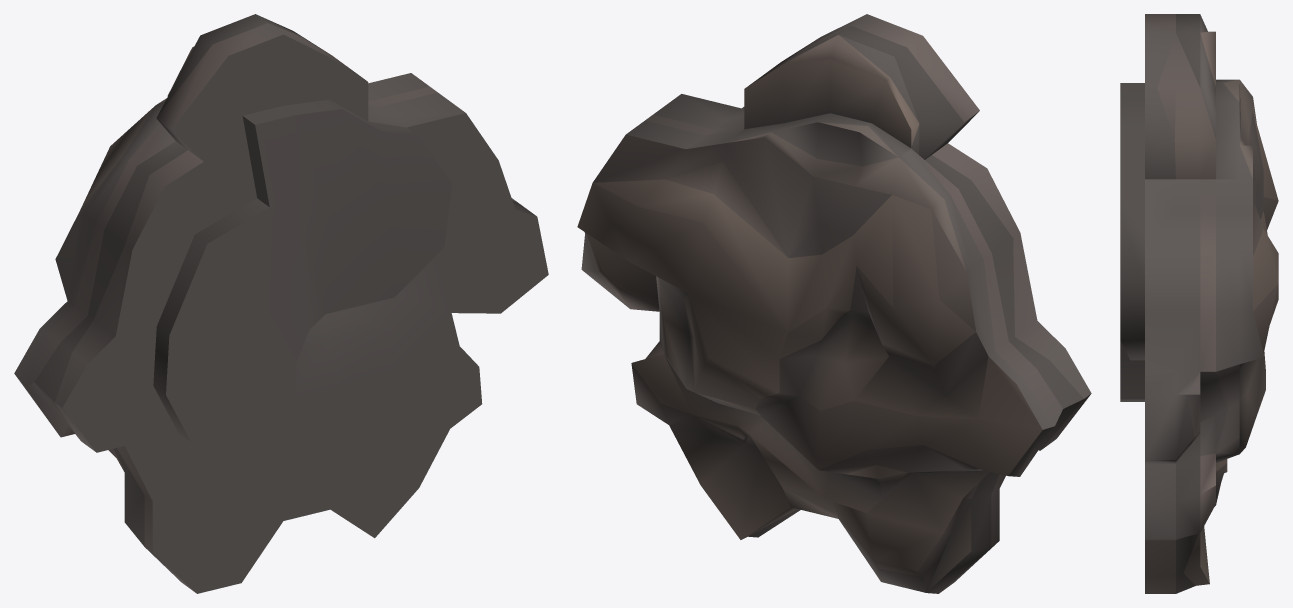
File: RockFlatLayered.006.glb
3 renders of one model, left to right at view 1: azimuth 30°, elevation 25°; view 2: azimuth 150°, elevation 25°; view 3: azimuth 270°, elevation 25°, orthographic. The views are drawn at different scales.
Visible parts, largest first — view 1: RockFlatLayered.006; view 2: RockFlatLayered.006; view 3: RockFlatLayered.006.
Boxes of the visible parts, x1,y1,x2,y2 form: RockFlatLayered.006: (14,14,548,593); RockFlatLayered.006: (577,14,1091,593); RockFlatLayered.006: (1120,14,1278,593).
Bounding box in the file's own units: 845 × 894 × 242.
